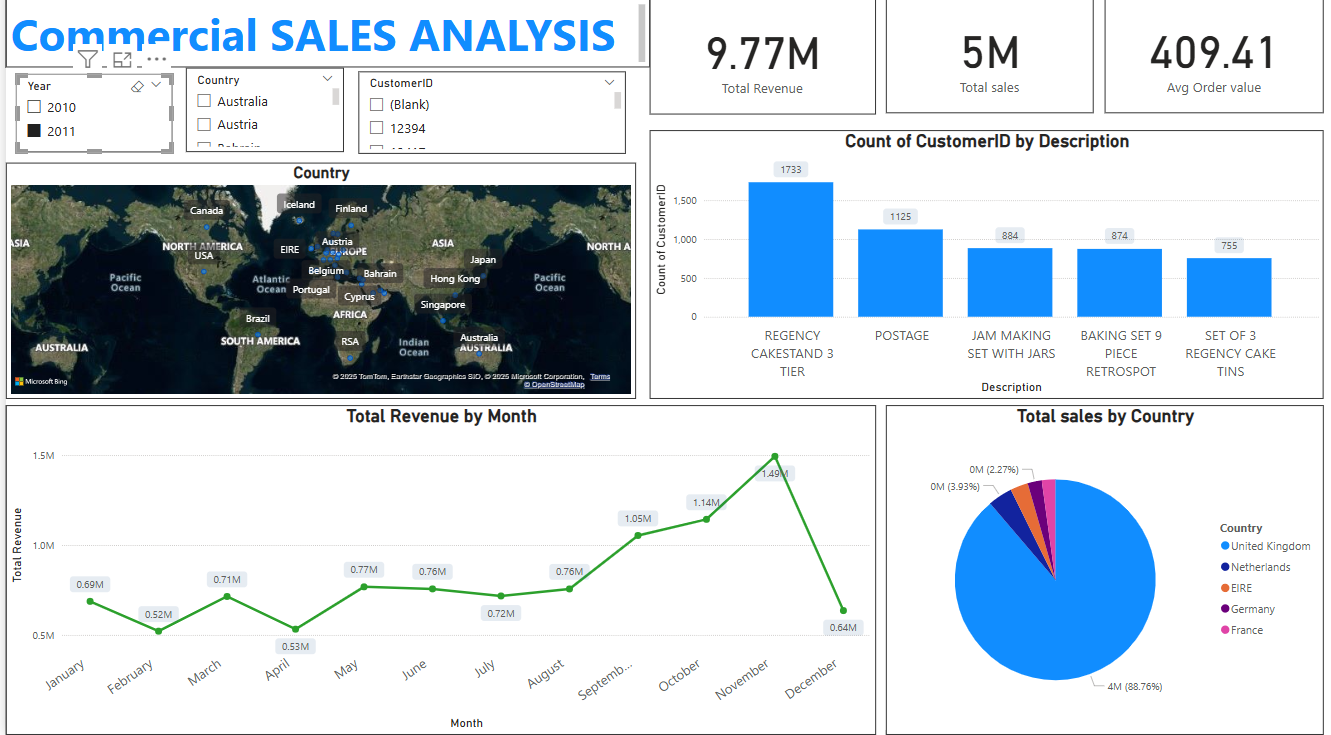

The page's visual inventory and layout, read from the dashboard file:
{"tool":"powerbi","page":{"name":"Page 1","canvas":[1600,900],"ordinal":0},"visuals":[{"type":"textbox","box":[0,12,777,82.3],"z":0},{"type":"lineChart","fields":{"Y":["Online Retail Data Set.Total Revenue"],"Category":["Online Retail Data Set.InvoiceDate.Variation.Date Hierarchy.Month"]},"box":[0,502.6,1049.7,397.9],"z":1000},{"type":"pieChart","fields":{"Y":["Online Retail Data Set.Total sales"],"Category":["Online Retail Data Set.Country"]},"box":[1061.8,502.6,528.3,397.9],"z":2000},{"type":"map","fields":{"Category":["Online Retail Data Set.Country"]},"box":[0,209.3,759.9,284.7],"z":3000},{"type":"columnChart","fields":{"Y":["CountNonNull(Online Retail Data Set.CustomerID)"],"Category":["Online Retail Data Set.Description"]},"box":[777,169.8,813,324.2],"z":4000},{"type":"card","fields":{"Values":["Online Retail Data Set.Total Revenue"]},"box":[777,12,272.7,138.9],"z":5000},{"type":"card","fields":{"Values":["Online Retail Data Set.Total sales"]},"box":[1061.8,10.3,250.4,138.9],"z":6000},{"type":"card","fields":{"Values":["Online Retail Data Set.Avg Order value"]},"box":[1325.9,10.3,264.2,138.9],"z":7000},{"type":"slicer","fields":{"Values":["Online Retail Data Set.InvoiceDate.Variation.Date Hierarchy.Year"]},"box":[12,102.9,188.7,94.3],"z":8000},{"type":"slicer","fields":{"Values":["Online Retail Data Set.Country"]},"box":[217.8,94.3,190.4,101.2],"z":9000},{"type":"slicer","fields":{"Values":["Online Retail Data Set.CustomerID"]},"box":[425.4,99.5,322.5,99.5],"z":10000}]}

Visuals, with their boxes in screenshot pixels (x1, y1, x2, y2), scaled from the page's 1600x900 canvas onto the 1331x735 screenshot:
textbox: Rect(0, 10, 646, 77)
lineChart - Online Retail Data Set.Total Revenue x Online Retail Data Set.InvoiceDate.Variation.Date Hierarchy.Month: Rect(0, 410, 873, 734)
pieChart - Online Retail Data Set.Total sales x Online Retail Data Set.Country: Rect(883, 410, 1323, 734)
map - Online Retail Data Set.Country: Rect(0, 171, 632, 403)
columnChart - CountNonNull(Online Retail Data Set.CustomerID) x Online Retail Data Set.Description: Rect(646, 139, 1323, 403)
card - Online Retail Data Set.Total Revenue: Rect(646, 10, 873, 123)
card - Online Retail Data Set.Total sales: Rect(883, 8, 1092, 122)
card - Online Retail Data Set.Avg Order value: Rect(1103, 8, 1323, 122)
slicer - Online Retail Data Set.InvoiceDate.Variation.Date Hierarchy.Year: Rect(10, 84, 167, 161)
slicer - Online Retail Data Set.Country: Rect(181, 77, 340, 160)
slicer - Online Retail Data Set.CustomerID: Rect(354, 81, 622, 163)
